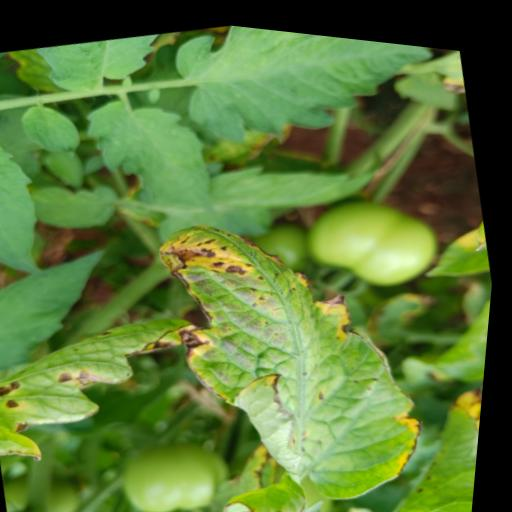Early Blight: (131, 163, 468, 512), (0, 284, 223, 485)
Healthy: (161, 15, 449, 171), (74, 77, 229, 236), (0, 122, 58, 290)
